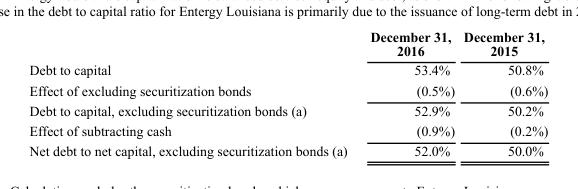table: (28, 29, 547, 158)
table column: (28, 29, 358, 158), (358, 29, 458, 158), (458, 29, 547, 158)
table column header: (28, 29, 547, 60)
table row: (28, 29, 547, 60), (28, 99, 547, 120), (28, 79, 547, 99), (28, 120, 547, 140), (28, 60, 547, 79), (28, 140, 547, 158)
